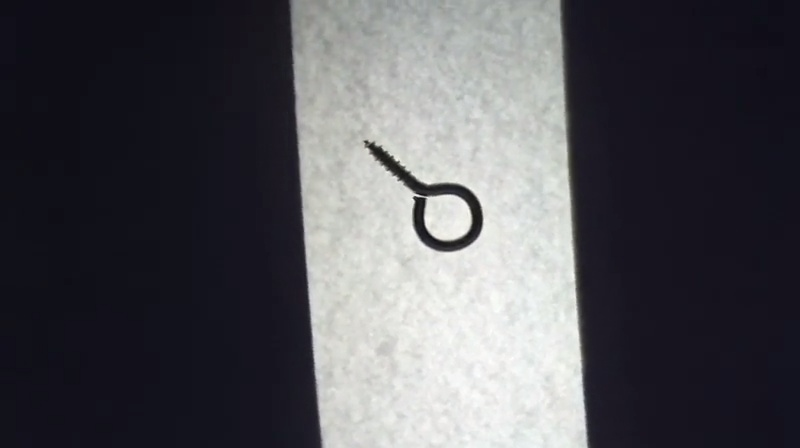O001: (354, 139, 488, 255)
